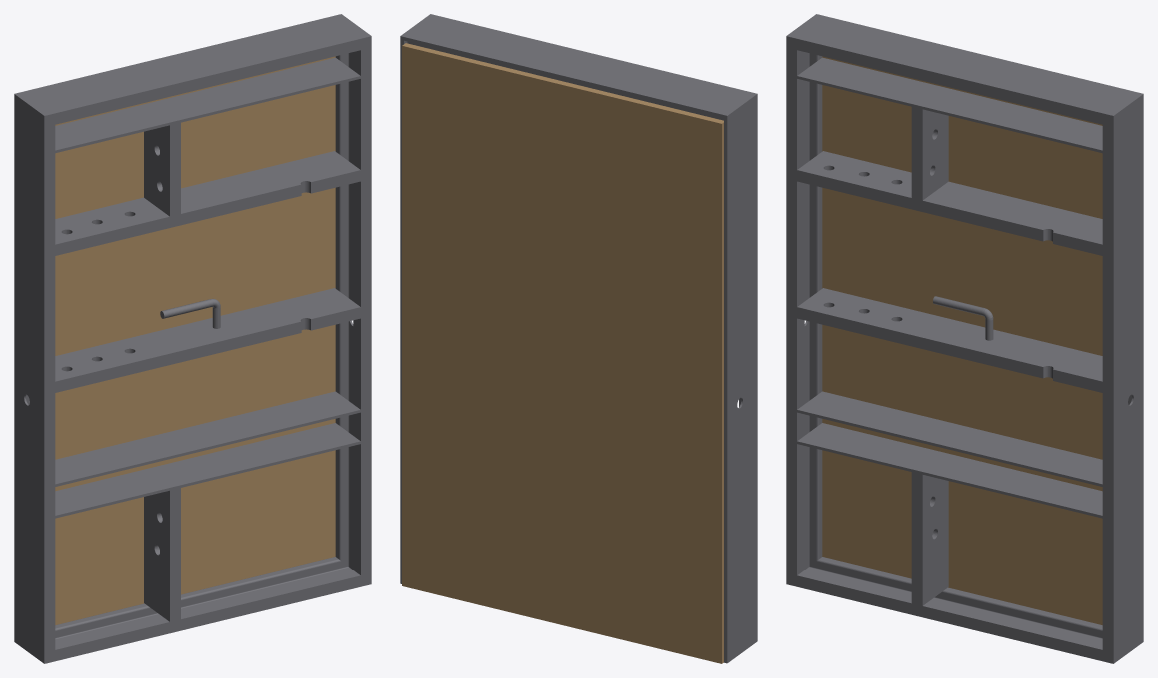
3 views of the same model, side by side, from view 1: azimuth 30°, elevation 25°; view 2: azimuth 150°, elevation 25°; view 3: azimuth 330°, elevation 25° (orthographic).
Visible parts, largest first — view 1: 12754120; view 2: 12754120; view 3: 12754120.
Part boxes in pixels (left/top/right/bottom): 12754120: left=14, top=14, right=371, bottom=663; 12754120: left=400, top=14, right=757, bottom=663; 12754120: left=786, top=14, right=1143, bottom=663.
Size of the model in its own units: 0.75 by 1.2 by 0.1278.
